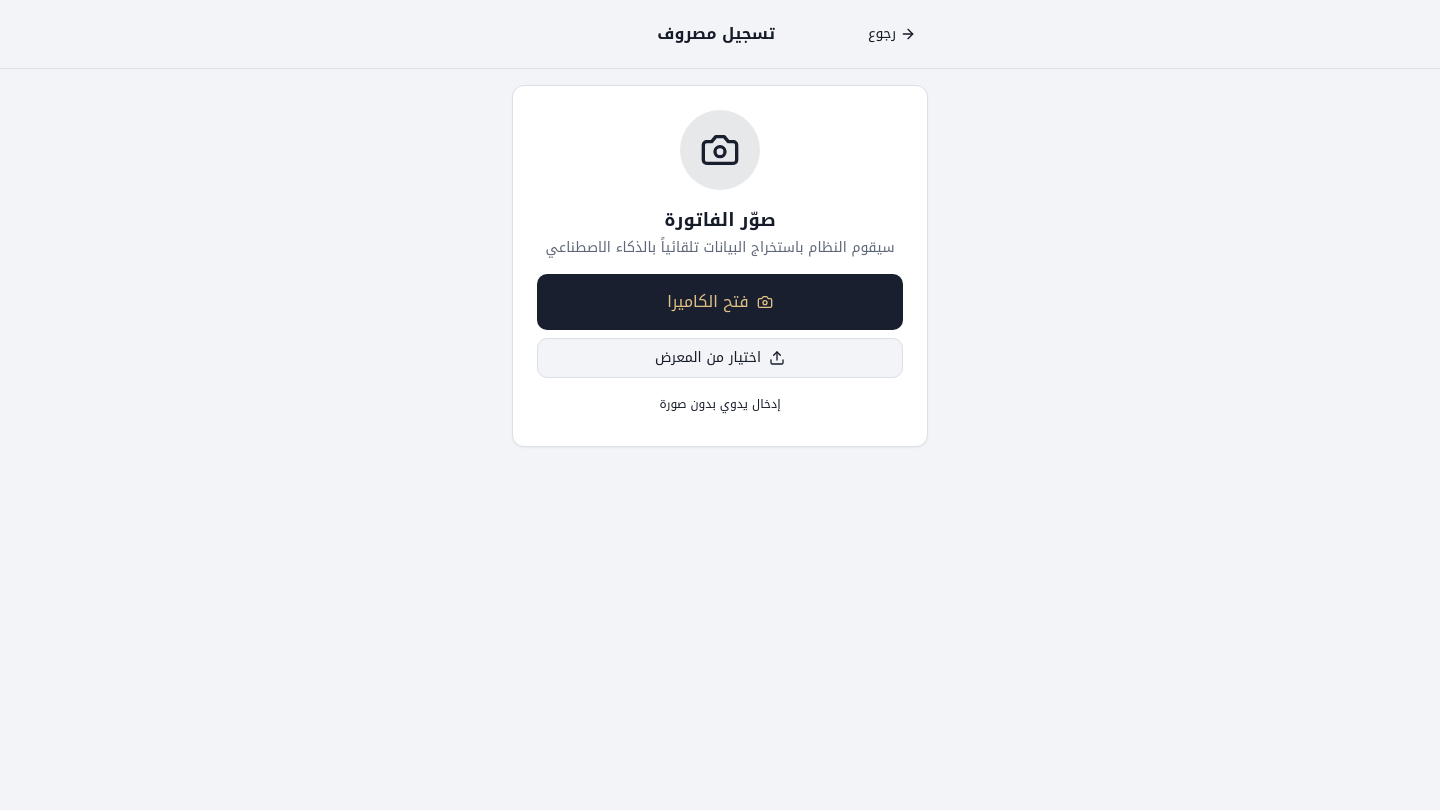
reaching the form › offers only projects that are not archived or cancelled
Click the button "إدخال يدوي بدون صورة".
click(720, 404)  # box [537,386,903,422]
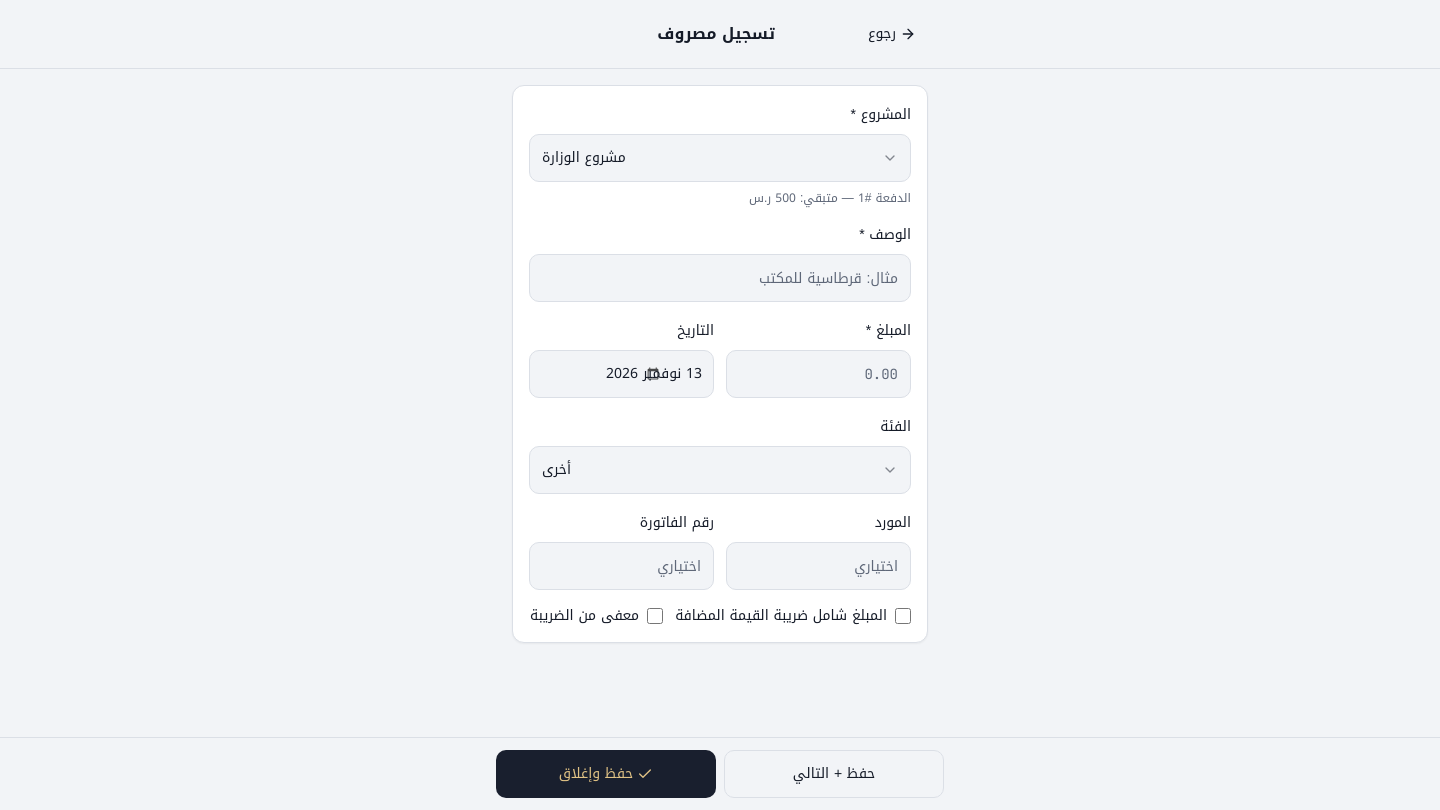
Press ArrowDown in the dropdown "مشروع الوزارة", box [529,134,911,182]
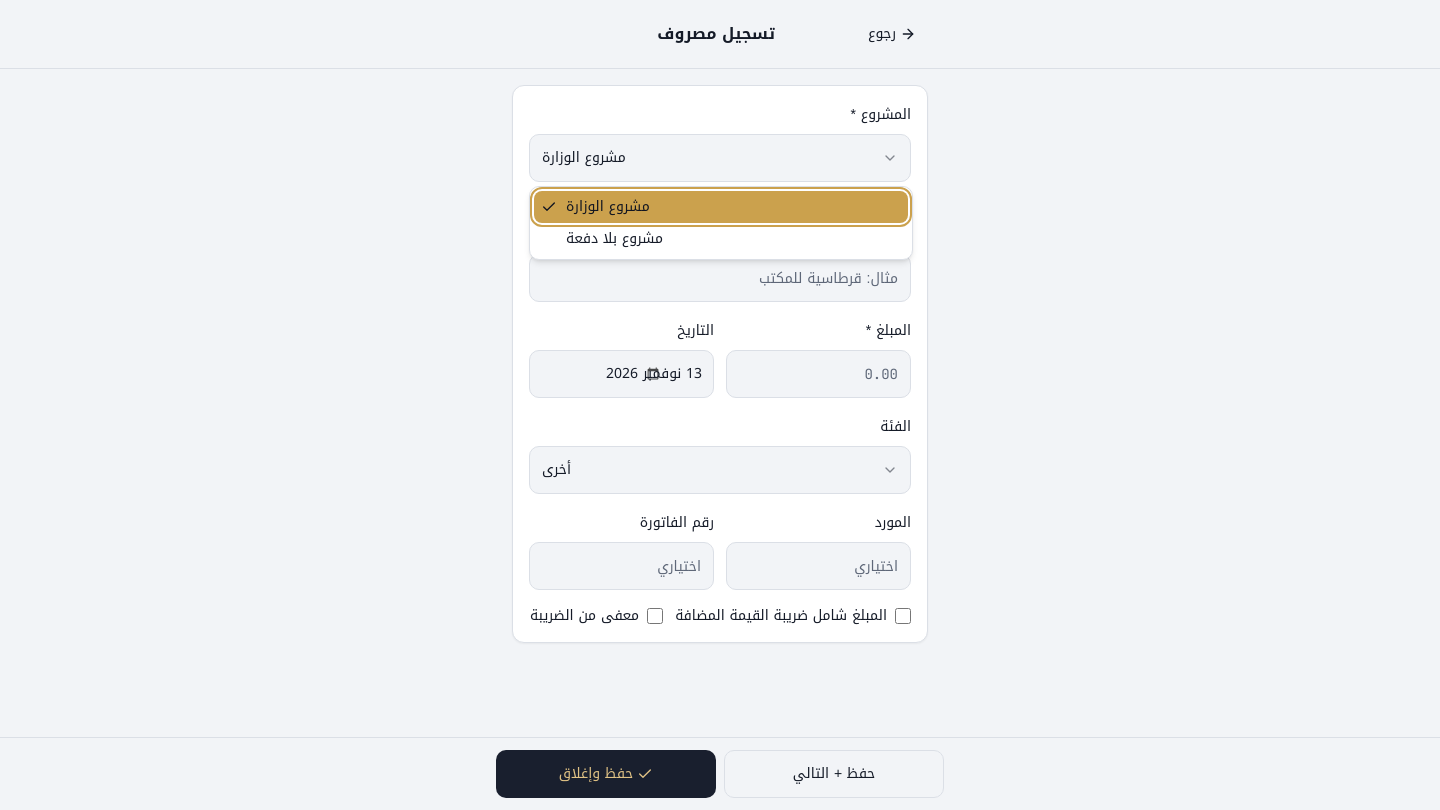
expect the option "مشروع بلا دفعة" is shown: met, box [566,225,663,252]
